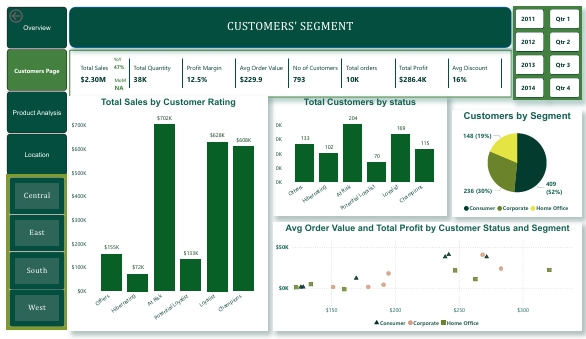

The dashboard page shown, as its layout file describes it:
{"tool":"powerbi","page":{"name":"Customers Page","canvas":[1280,720],"ordinal":1},"visuals":[{"type":"columnChart","title":"Total Customers by status","fields":{"Category":["Customer.Customer Rating"],"Y":["Count(Customer.Customer ID)"]},"box":[591.5,200.3,385.5,266.5],"z":0},{"type":"cardVisual","fields":{"Data":["Superstore Sales.Total Sales","Superstore Sales.Total Quantity","Superstore Sales.Profit Margin","Superstore Sales.Avg Order Value","Count(Superstore Sales.Customer ID)","Superstore Sales.Total orders","Customer.Total Profit","Superstore Sales.Avg Discount"]},"box":[138.7,94.6,982.7,105.8],"z":1000},{"type":"shape","box":[138,0,982.7,90.7],"z":2000},{"type":"advancedSlicerVisual","fields":{"Values":["DimDate.Order Date.Variation.Date Hierarchy.Year"]},"box":[1125,0,73.7,207.9],"z":2000,"group":"g2"},{"type":"advancedSlicerVisual","fields":{"Values":["DimDate.Order Date.Variation.Date Hierarchy.Quarter"]},"box":[1202.5,0,75.6,207.9],"z":3000,"group":"g2"},{"type":"lineStackedColumnComboChart","fields":{"Category":["Customer.Customer Rating"],"Y":["Superstore Sales.Total Sales"]},"box":[138,200.3,440.3,519.7],"z":3000},{"type":"group","id":"g1","title":"Group 3","box":[215.4,98.3,81.3,100.2],"z":4000},{"type":"cardVisual","fields":{"Data":["DimDate.YoY"]},"box":[215.4,98.3,81,52.9],"z":4000,"group":"g1"},{"type":"cardVisual","fields":{"Data":["DimDate.MoM"]},"box":[217.4,145.5,79,52.9],"z":5000,"group":"g1"},{"type":"scatterChart","fields":{"Category":["Customer.Customer Status"],"Series":["Customer.Segment"],"X":["Superstore Sales.Avg Order Value"],"Y":["Customer.Total Profit"]},"box":[591.5,480,686,240],"z":5000},{"type":"pieChart","title":"Customers by Segment","fields":{"Y":["Count(Customer.Customer ID)"],"Category":["Customer.Segment"]},"box":[990.2,230.6,287.2,236.2],"z":6000},{"type":"group","id":"g2","title":"Group 3","box":[1125,0,153.1,207.9],"z":7000},{"type":"pageNavigator","box":[0,0,133,374.2],"z":8000},{"type":"advancedSlicerVisual","fields":{"Values":["Location.Region"]},"box":[0,374,134,346],"z":9000},{"type":"actionButton","box":[0,0,100,40],"z":10000}]}

Visuals, with their boxes in screenshot pixels (x1, y1, x2, y2), scaled from the page's 1280x720 canvas onto the 586x339 screenshot:
"Total Customers by status" columnChart: [x1=271, y1=94, x2=447, y2=220]
cardVisual - Superstore Sales.Total Sales x Superstore Sales.Total Quantity: [x1=63, y1=45, x2=513, y2=94]
shape: [x1=63, y1=0, x2=513, y2=43]
advancedSlicerVisual - DimDate.Order Date.Variation.Date Hierarchy.Year: [x1=515, y1=0, x2=549, y2=98]
advancedSlicerVisual - DimDate.Order Date.Variation.Date Hierarchy.Quarter: [x1=551, y1=0, x2=585, y2=98]
lineStackedColumnComboChart - Customer.Customer Rating x Superstore Sales.Total Sales: [x1=63, y1=94, x2=265, y2=338]
"Group 3" group: [x1=99, y1=46, x2=136, y2=93]
cardVisual - DimDate.YoY: [x1=99, y1=46, x2=136, y2=71]
cardVisual - DimDate.MoM: [x1=100, y1=69, x2=136, y2=93]
scatterChart - Customer.Customer Status x Customer.Segment: [x1=271, y1=226, x2=585, y2=338]
"Customers by Segment" pieChart: [x1=453, y1=109, x2=585, y2=220]
"Group 3" group: [x1=515, y1=0, x2=585, y2=98]
pageNavigator: [x1=0, y1=0, x2=61, y2=176]
advancedSlicerVisual - Location.Region: [x1=0, y1=176, x2=61, y2=338]
actionButton: [x1=0, y1=0, x2=46, y2=19]
